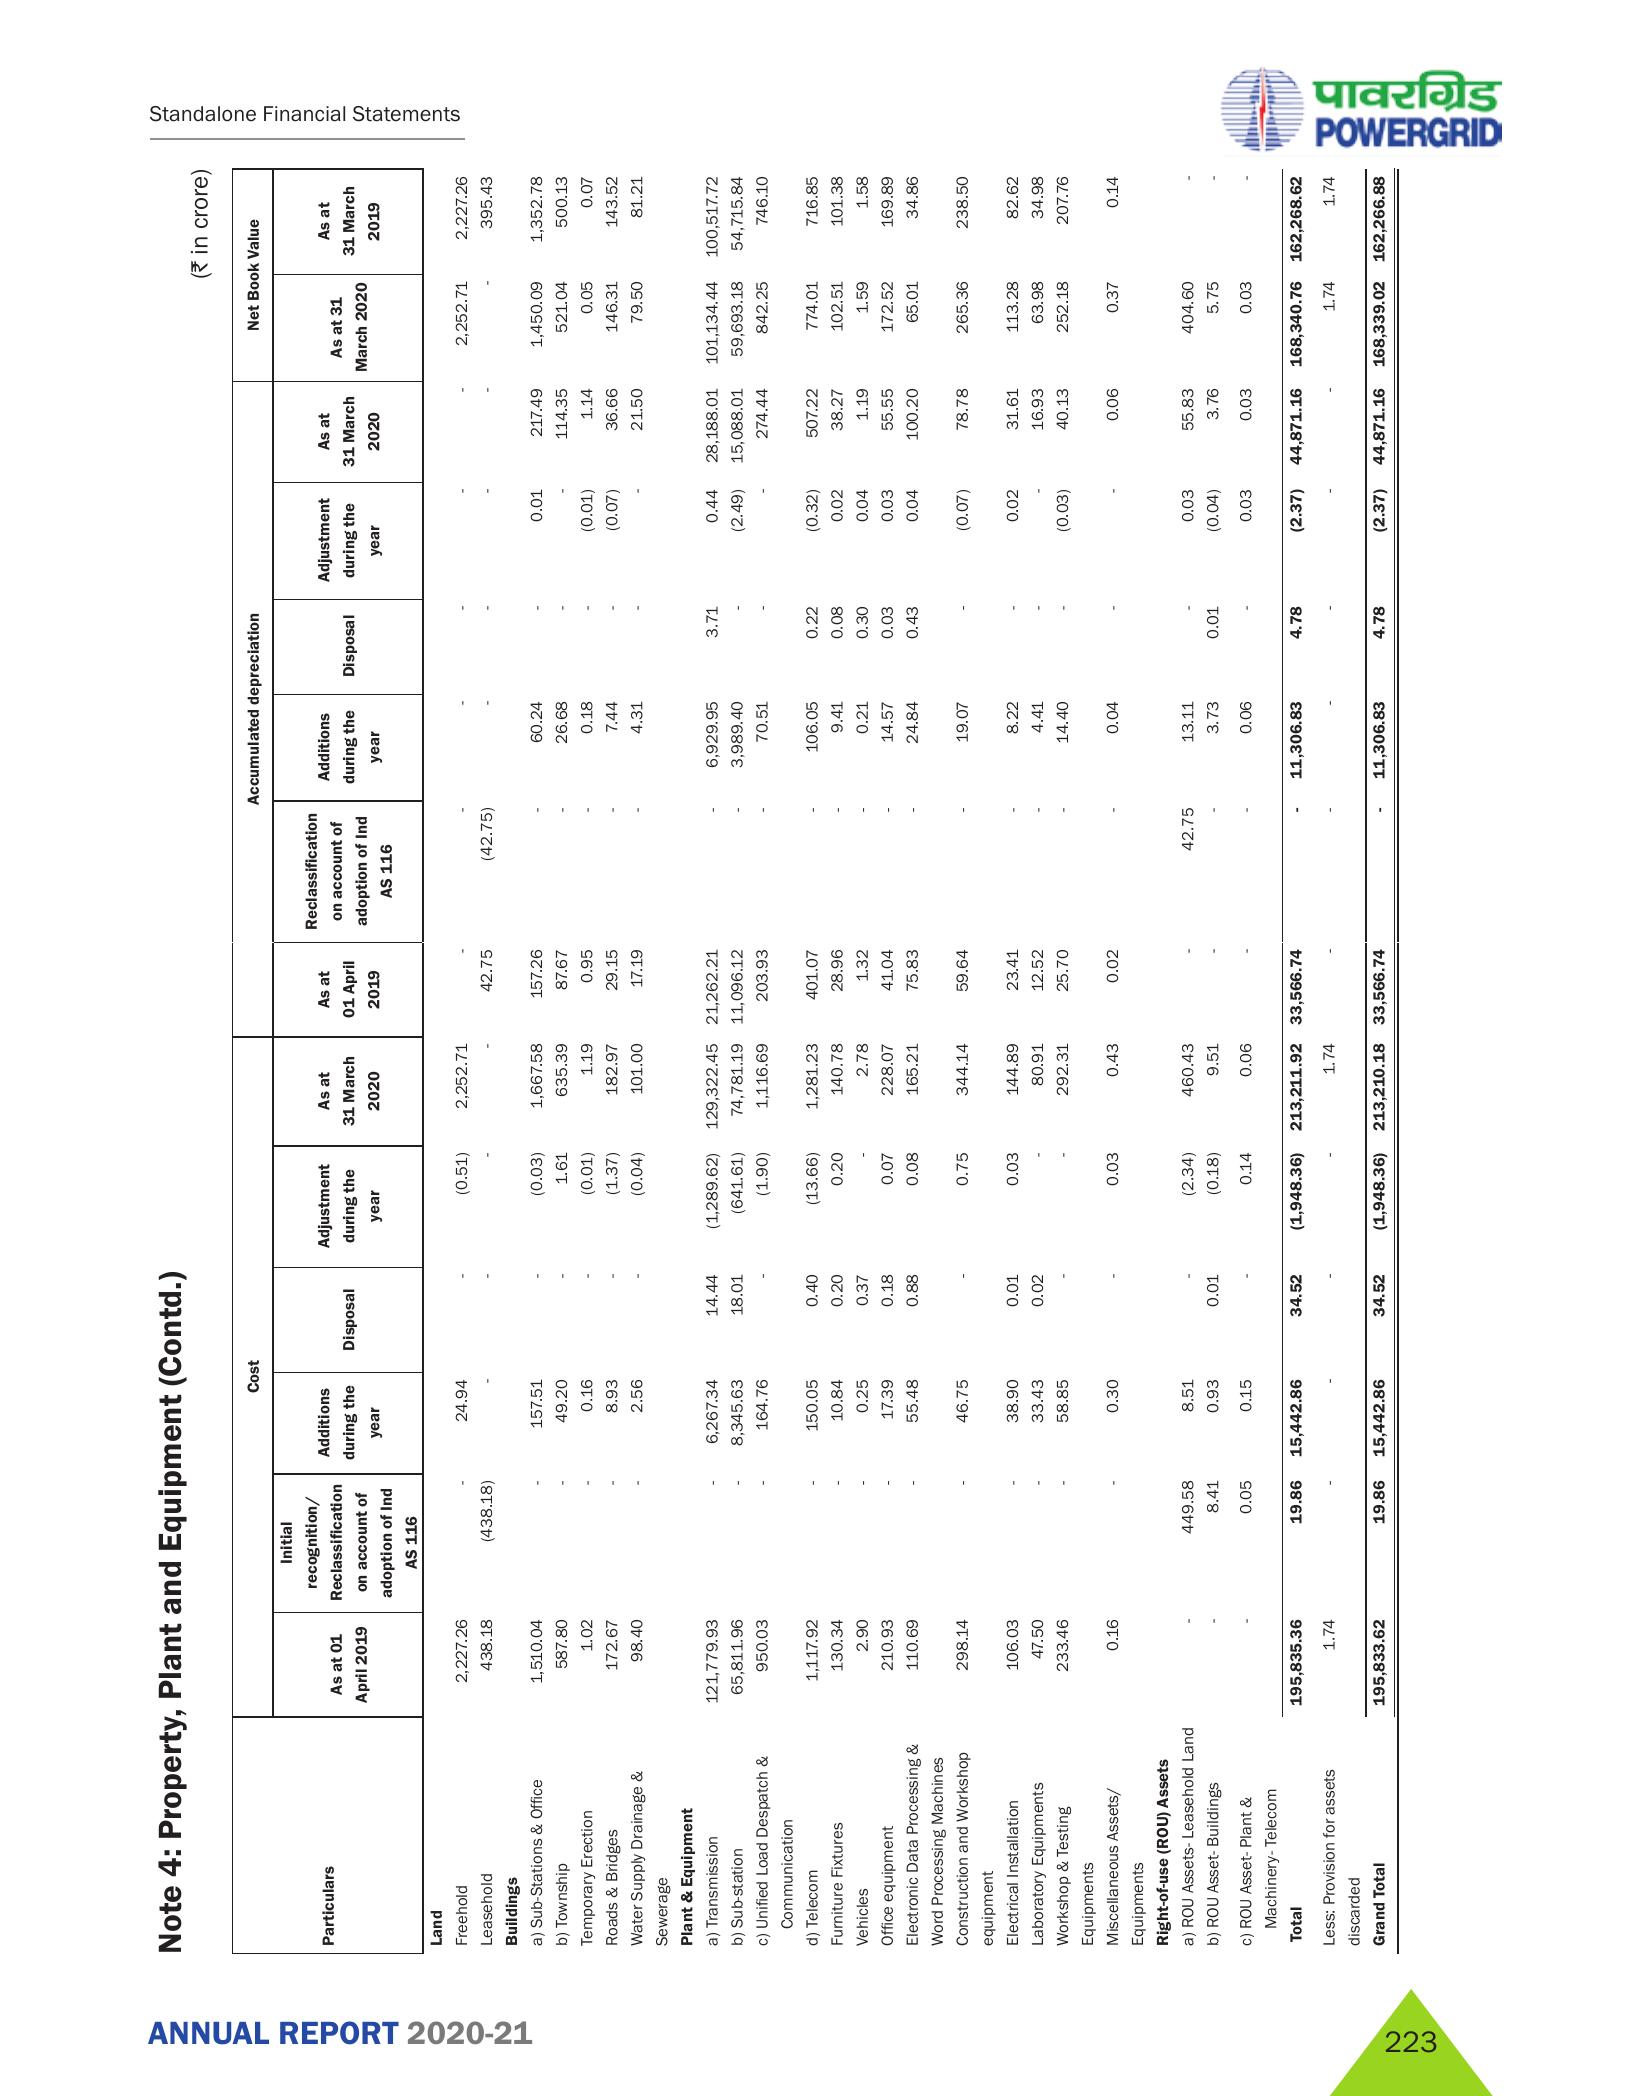Footer: (0, 1965, 1650, 2096)
Header: (0, 0, 1650, 158)
Table: (146, 172, 1434, 1945)
